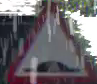Speed Breaker ahead: (5, 4, 92, 83)
